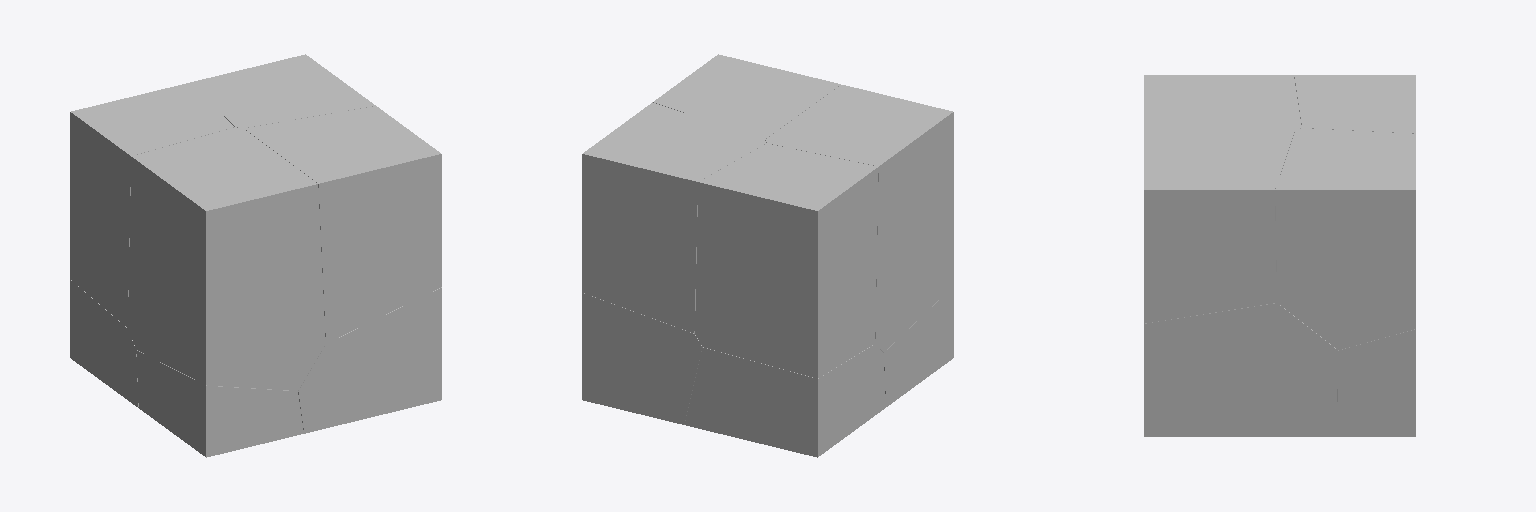
Rendered from Plain_Cube_Fractured.obj.
3 renders of one model, left to right at view 1: azimuth 30°, elevation 25°; view 2: azimuth 150°, elevation 25°; view 3: azimuth 270°, elevation 25°, orthographic.
Visible parts, largest first — view 1: Cube_cell.001, Cube_cell.005, Cube_cell.003, Cube_cell.004, Cube_cell, Cube_cell.007, Cube_cell.002; view 2: Cube_cell.003, Cube_cell.007, Cube_cell.001, Cube_cell.002, Cube_cell.006, Cube_cell.005, Cube_cell; view 3: Cube_cell.007, Cube_cell.005, Cube_cell.004, Cube_cell.001, Cube_cell.006, Cube_cell.003.
Part boxes in pixels (bbox=[...]): Cube_cell.001: bbox=[128, 127, 325, 390]; Cube_cell.005: bbox=[244, 106, 441, 343]; Cube_cell.003: bbox=[70, 83, 233, 327]; Cube_cell.004: bbox=[298, 287, 441, 433]; Cube_cell: bbox=[136, 350, 303, 457]; Cube_cell.007: bbox=[190, 54, 375, 127]; Cube_cell.002: bbox=[70, 280, 138, 407]; Cube_cell.003: bbox=[695, 143, 878, 378]; Cube_cell.007: bbox=[582, 102, 765, 333]; Cube_cell.001: bbox=[765, 85, 953, 352]; Cube_cell.002: bbox=[685, 344, 885, 457]; Cube_cell.006: bbox=[582, 293, 702, 424]; Cube_cell.005: bbox=[653, 54, 840, 138]; Cube_cell: bbox=[884, 286, 953, 406]; Cube_cell.007: bbox=[1275, 128, 1415, 349]; Cube_cell.005: bbox=[1144, 130, 1294, 323]; Cube_cell.004: bbox=[1144, 303, 1337, 436]; Cube_cell.001: bbox=[1144, 75, 1301, 129]; Cube_cell.006: bbox=[1337, 329, 1415, 436]; Cube_cell.003: bbox=[1294, 75, 1415, 133].
Size of the model in its own units: 0.3523 by 0.3523 by 0.3523.